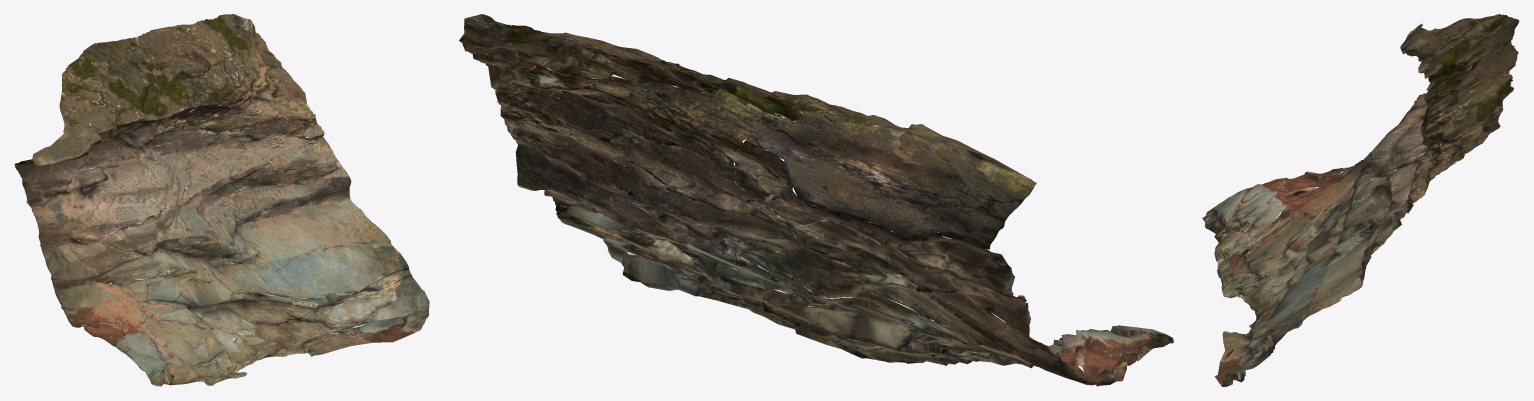
The model's file is rock_face_01.glb.
3 renders of one model, left to right at view 1: azimuth 30°, elevation 25°; view 2: azimuth 150°, elevation 25°; view 3: azimuth 270°, elevation 25°, orthographic. The views are drawn at different scales.
Visible parts, largest first — view 1: rock_face_01; view 2: rock_face_01; view 3: rock_face_01.
Part boxes in pixels (bbox=[...]): rock_face_01: bbox=[14, 14, 429, 386]; rock_face_01: bbox=[459, 14, 1173, 386]; rock_face_01: bbox=[1202, 14, 1519, 386].
Size of the model in its own units: 4.95 by 3.57 by 3.83.
1 material, 1 textured.
